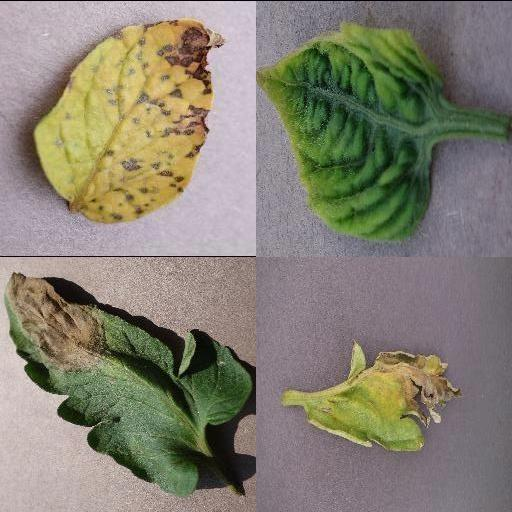Late Blight: (2, 270, 256, 496), (300, 340, 462, 450)
Septoria: (34, 18, 226, 224)
Yellow Leaf Curl Virus: (256, 19, 444, 242)
